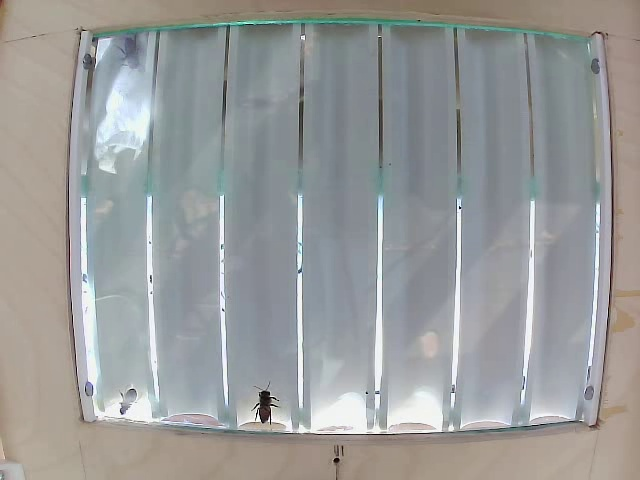bee: (245, 380, 279, 430), (112, 36, 139, 73)
